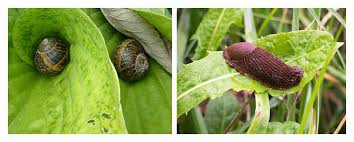slug: (223, 42, 304, 86)
snail: (116, 36, 150, 83), (34, 38, 69, 74)
